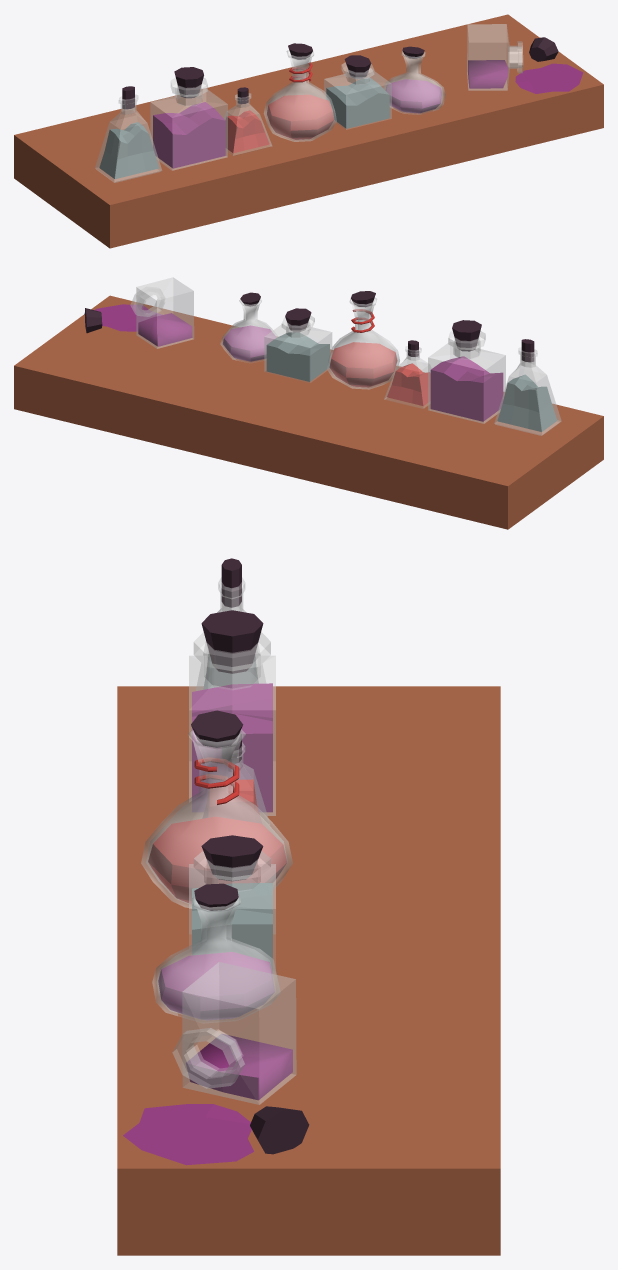
File: Estante-poções.fbx
The picture shows the model from 3 angles, top to bottom: view 1: azimuth 30°, elevation 25°; view 2: azimuth 150°, elevation 25°; view 3: azimuth 270°, elevation 25°; orthographic projection. The views are drawn at different scales.
Parts seen in each view (by area): view 1: Cube.092, PoçaoQuadrada.005, PoçãoRedonda.003, PoçaoQuadrada.007, PoçãoTriangular.003, PoçaoQuadrada.006, PoçãoRedonda.004, PoçãoTriangular.004, Plane.001; view 2: Cube.092, PoçaoQuadrada.005, PoçãoRedonda.003, PoçaoQuadrada.007, PoçaoQuadrada.006, PoçãoTriangular.003, PoçãoRedonda.004, PoçãoTriangular.004, Plane.001; view 3: Cube.092, PoçaoQuadrada.007, PoçãoRedonda.003, PoçaoQuadrada.005, PoçãoRedonda.004, PoçaoQuadrada.006, Plane.001, PoçãoTriangular.004, PoçãoTriangular.003.
Boxes of the visible parts, bbox=[...] form: Cube.092: bbox=[14, 14, 603, 248]; PoçaoQuadrada.005: bbox=[150, 67, 227, 170]; PoçãoRedonda.003: bbox=[264, 43, 336, 141]; PoçaoQuadrada.007: bbox=[467, 24, 558, 90]; PoçãoTriangular.003: bbox=[95, 86, 161, 182]; PoçaoQuadrada.006: bbox=[324, 55, 391, 129]; PoçãoRedonda.004: bbox=[384, 46, 445, 114]; PoçãoTriangular.004: bbox=[224, 87, 272, 155]; Plane.001: bbox=[515, 63, 583, 93]; Cube.092: bbox=[14, 295, 603, 529]; PoçaoQuadrada.005: bbox=[428, 320, 505, 423]; PoçãoRedonda.003: bbox=[327, 291, 399, 389]; PoçaoQuadrada.007: bbox=[84, 277, 194, 348]; PoçaoQuadrada.006: bbox=[264, 308, 332, 382]; PoçãoTriangular.003: bbox=[494, 339, 561, 435]; PoçãoRedonda.004: bbox=[220, 292, 277, 362]; PoçãoTriangular.004: bbox=[384, 340, 431, 408]; Plane.001: bbox=[95, 304, 162, 331]; Cube.092: bbox=[117, 686, 500, 1255]; PoçaoQuadrada.007: bbox=[172, 962, 309, 1154]; PoçãoRedonda.003: bbox=[141, 710, 292, 908]; PoçaoQuadrada.005: bbox=[189, 610, 275, 815]; PoçãoRedonda.004: bbox=[152, 883, 280, 1020]; PoçaoQuadrada.006: bbox=[189, 835, 275, 972]; Plane.001: bbox=[123, 1104, 253, 1165]; PoçãoTriangular.004: bbox=[203, 732, 269, 825]; PoçãoTriangular.003: bbox=[196, 558, 265, 690].
Bounding box in the file's own units: 1.71 × 0.4344 × 0.5757.
